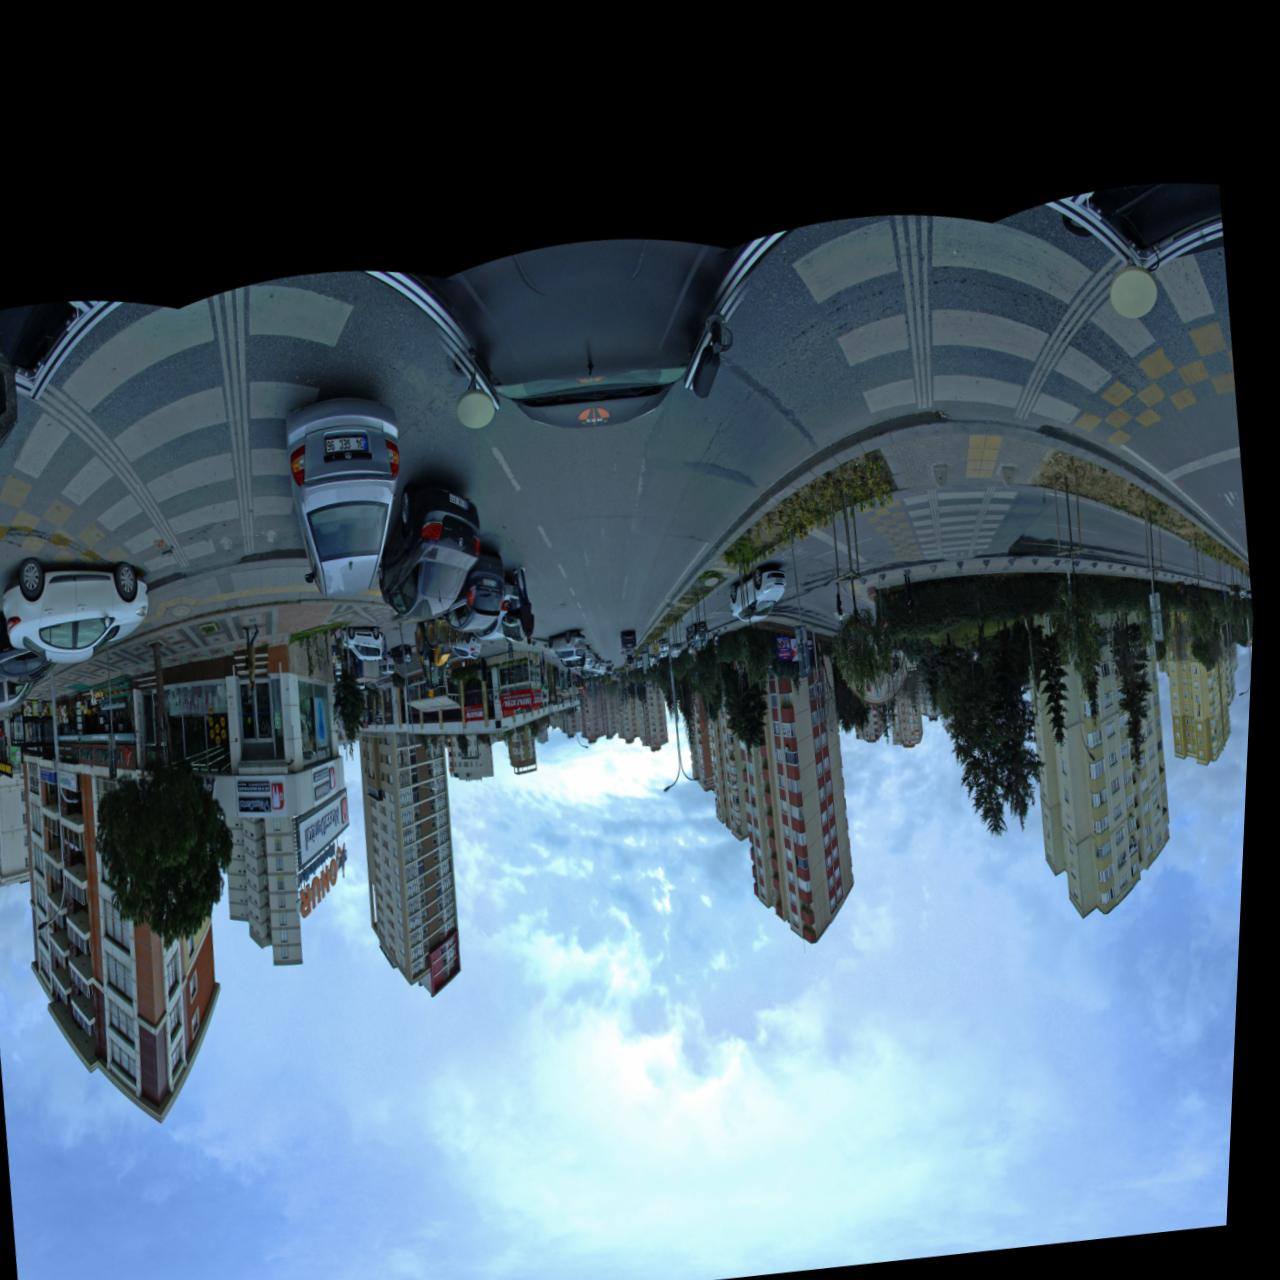SignStore: (304, 830, 354, 920), (302, 784, 356, 866), (506, 686, 547, 708), (77, 743, 114, 764), (244, 795, 278, 812), (320, 778, 340, 801), (469, 701, 489, 719), (2, 762, 19, 778), (15, 744, 27, 764), (122, 748, 130, 765)
